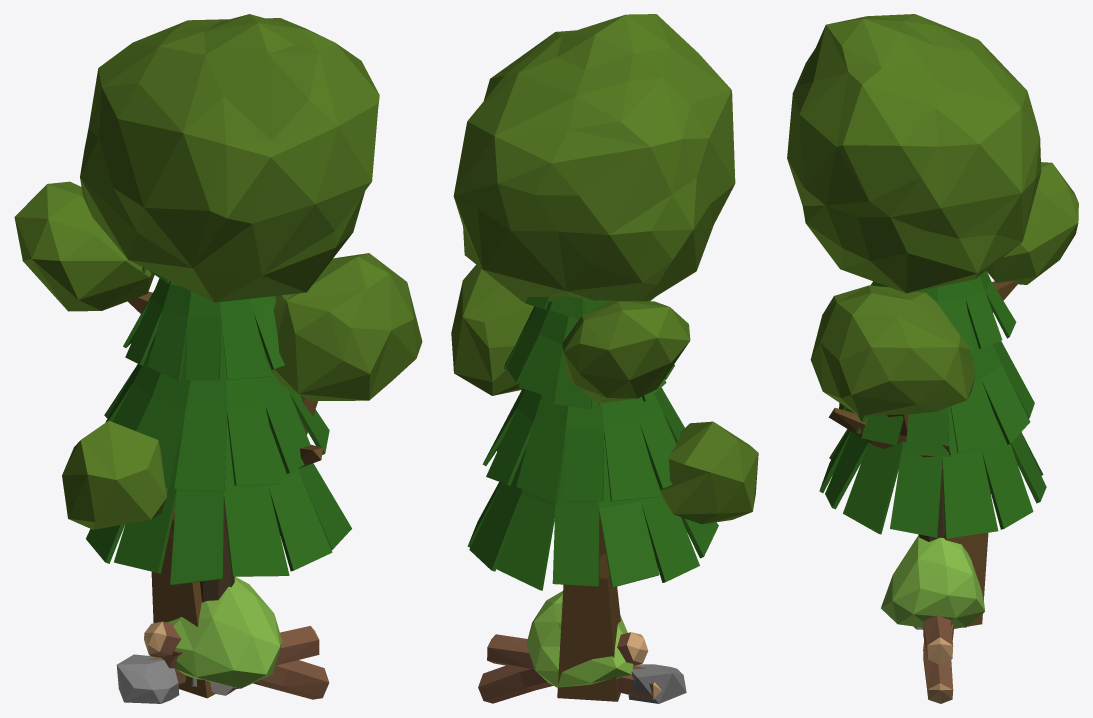
File: goblins-doodads.glb
3 views of the same model, side by side, from view 1: azimuth 30°, elevation 25°; view 2: azimuth 150°, elevation 25°; view 3: azimuth 270°, elevation 25° (orthographic). The views are drawn at different scales.
Parts seen in each view (by area): view 1: arbre, sapin, buisson, rocherbranche, branche; view 2: arbre, sapin, rocherbranche, buisson, branche; view 3: arbre, sapin, buisson, branche, rocherbranche.
Part boxes in pixels (left/top/right/bottom): arbre: left=14, top=14, right=422, bottom=698; sapin: left=86, top=267, right=351, bottom=688; buisson: left=149, top=576, right=282, bottom=688; rocherbranche: left=116, top=621, right=329, bottom=703; branche: left=145, top=626, right=319, bottom=684; arbre: left=451, top=14, right=758, bottom=701; sapin: left=467, top=296, right=718, bottom=590; rocherbranche: left=478, top=632, right=686, bottom=703; buisson: left=526, top=591, right=633, bottom=687; branche: left=487, top=634, right=661, bottom=699; arbre: left=787, top=14, right=1078, bottom=628; sapin: left=819, top=268, right=1046, bottom=541; buisson: left=881, top=535, right=984, bottom=627; branche: left=923, top=615, right=953, bottom=665; rocherbranche: left=923, top=624, right=953, bottom=703.
Bounding box in the file's own units: 3.17 × 6.88 × 2.83.
